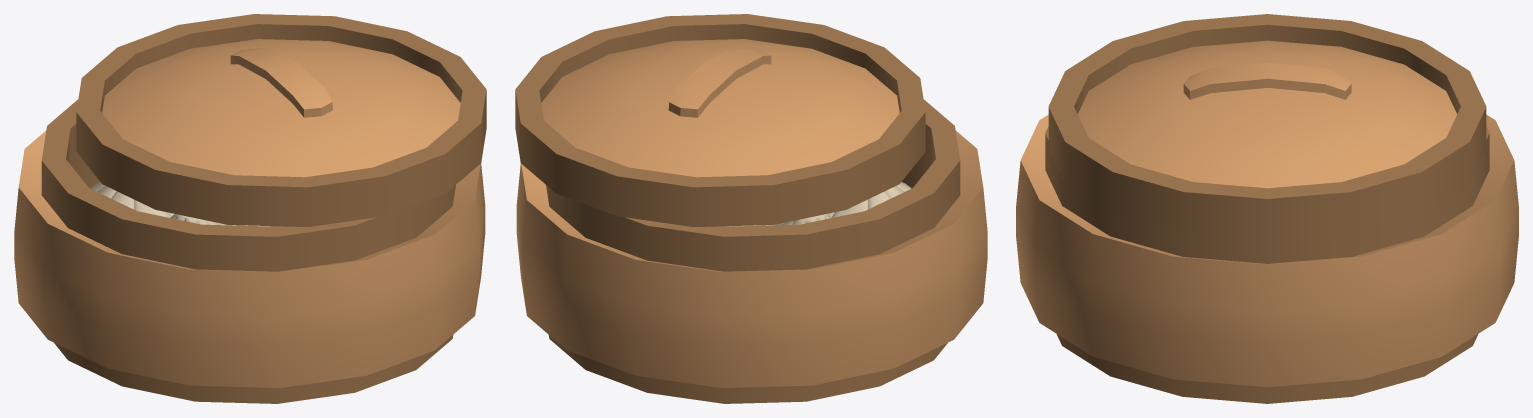
Rendered from Environment_ChukamanSteamer.fbx.
3 views of the same model, side by side, from view 1: azimuth 30°, elevation 25°; view 2: azimuth 150°, elevation 25°; view 3: azimuth 270°, elevation 25° (orthographic). The views are drawn at different scales.
Parts seen in each view (by area): view 1: Environment_ChukamanSteamer, ChukamanSteamer_Lid; view 2: Environment_ChukamanSteamer, ChukamanSteamer_Lid; view 3: Environment_ChukamanSteamer, ChukamanSteamer_Lid.
Part boxes in pixels (x1=…): Environment_ChukamanSteamer: x1=14, y1=99, x2=485, y2=403; ChukamanSteamer_Lid: x1=76, y1=14, x2=486, y2=226; Environment_ChukamanSteamer: x1=516, y1=99, x2=987, y2=403; ChukamanSteamer_Lid: x1=515, y1=14, x2=925, y2=226; Environment_ChukamanSteamer: x1=1016, y1=114, x2=1518, y2=403; ChukamanSteamer_Lid: x1=1048, y1=14, x2=1486, y2=241.
Bounding box in the file's own units: 111 × 61.35 × 109.
